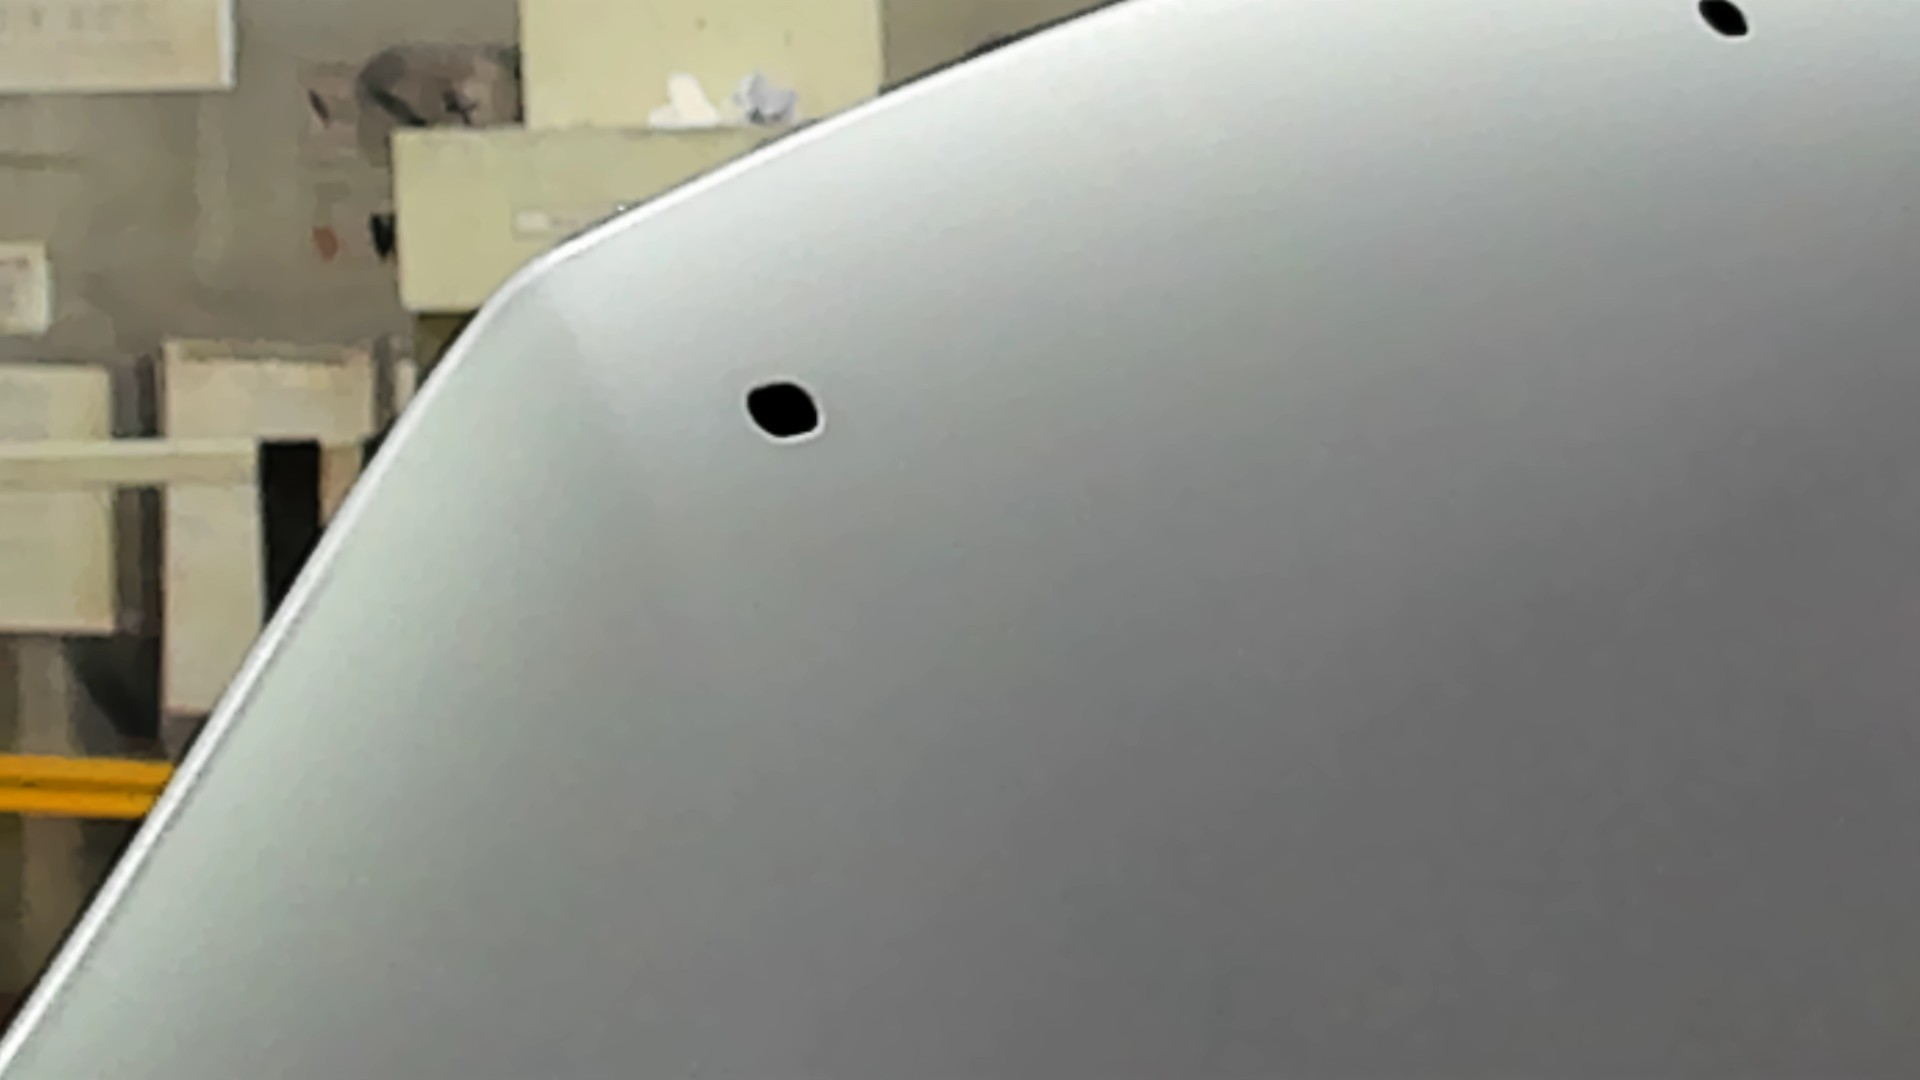amorfo: (737, 376, 832, 444), (1691, 1, 1759, 47)
